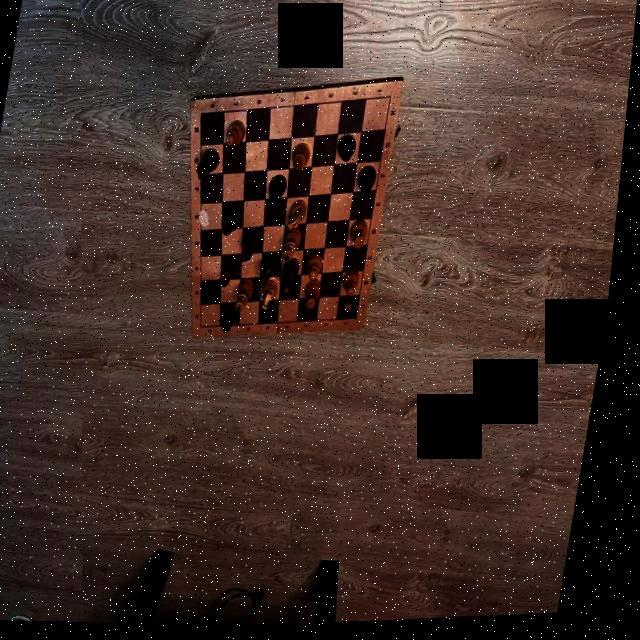chess-table-corners: (390, 97, 395, 103), (201, 112, 205, 119), (206, 327, 209, 331), (361, 320, 364, 324)
